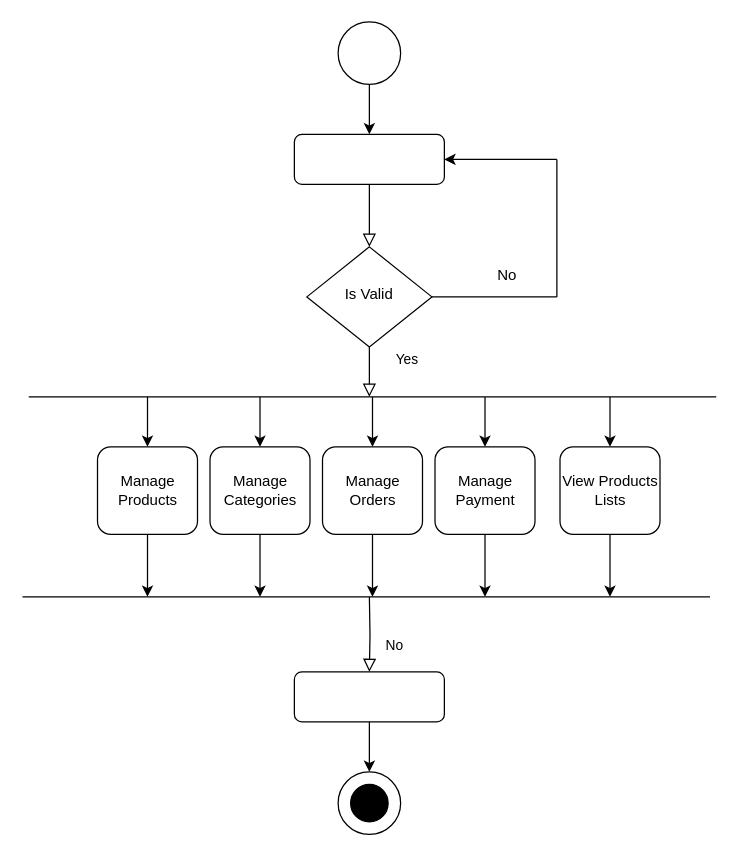
The diagram is 739 pixels wide and 856 high, and some of its shapes have lost their labels. The shapes that lost their labels are listed below. From the top down, each one's box as (x1, y1, x2, y2) in pixels, then its label:
(293, 133, 444, 184): Login
(293, 671, 444, 722): Logout
